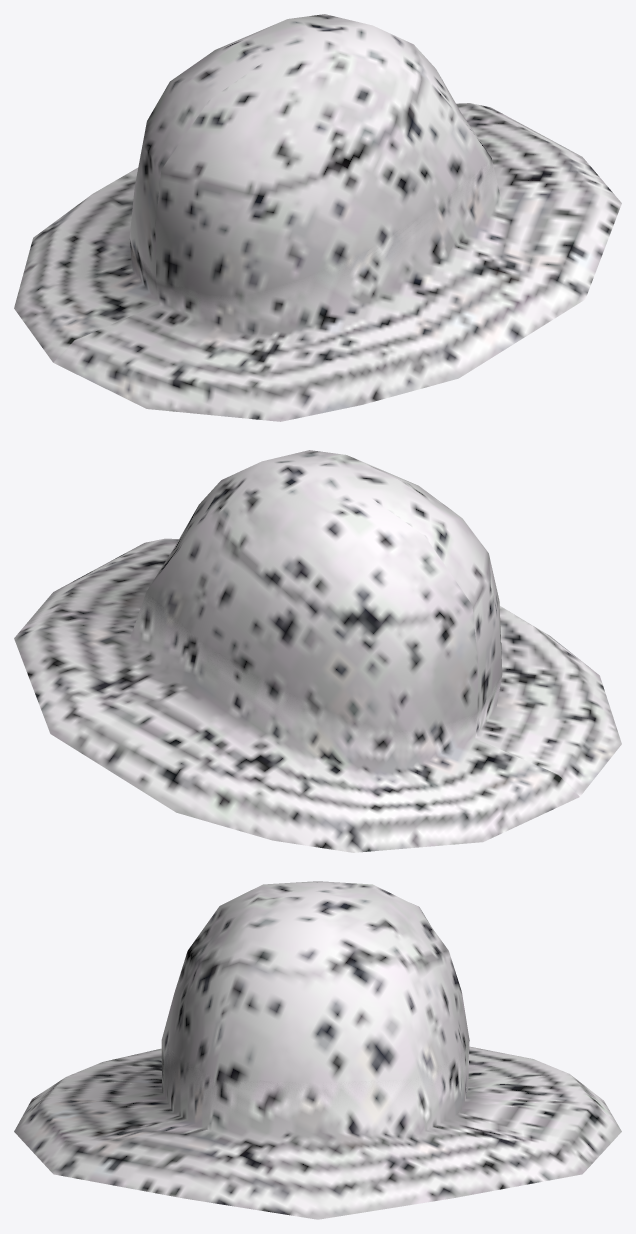
Rendered from hat_0450014.FBX.
3 renders of one model, top to bottom at view 1: azimuth 30°, elevation 25°; view 2: azimuth 150°, elevation 25°; view 3: azimuth 270°, elevation 25°, orthographic. The views are drawn at different scales.
Parts seen in each view (by area): view 1: hat_0450014; view 2: hat_0450014; view 3: hat_0450014.
Part boxes in pixels (x1=…): hat_0450014: x1=14, y1=14, x2=621, y2=421; hat_0450014: x1=14, y1=450, x2=621, y2=852; hat_0450014: x1=14, y1=881, x2=621, y2=1219.
Bounding box in the file's own units: 41.57 × 20.02 × 40.29.
